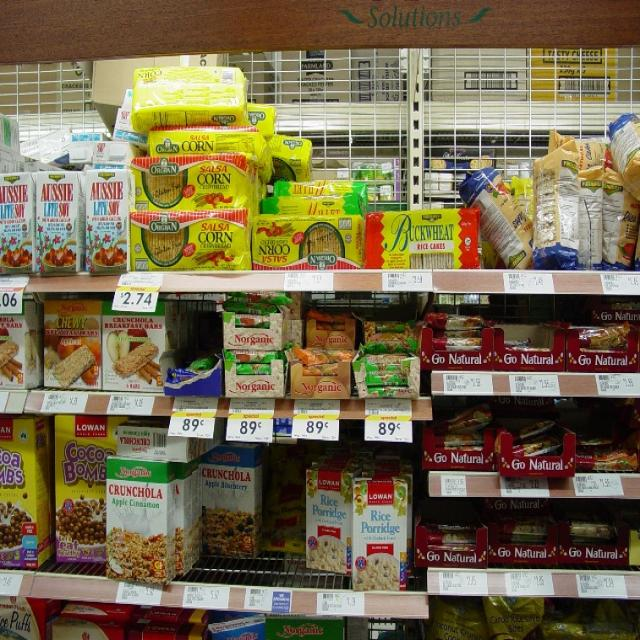q229: (353, 472, 417, 590), (306, 460, 352, 578)
